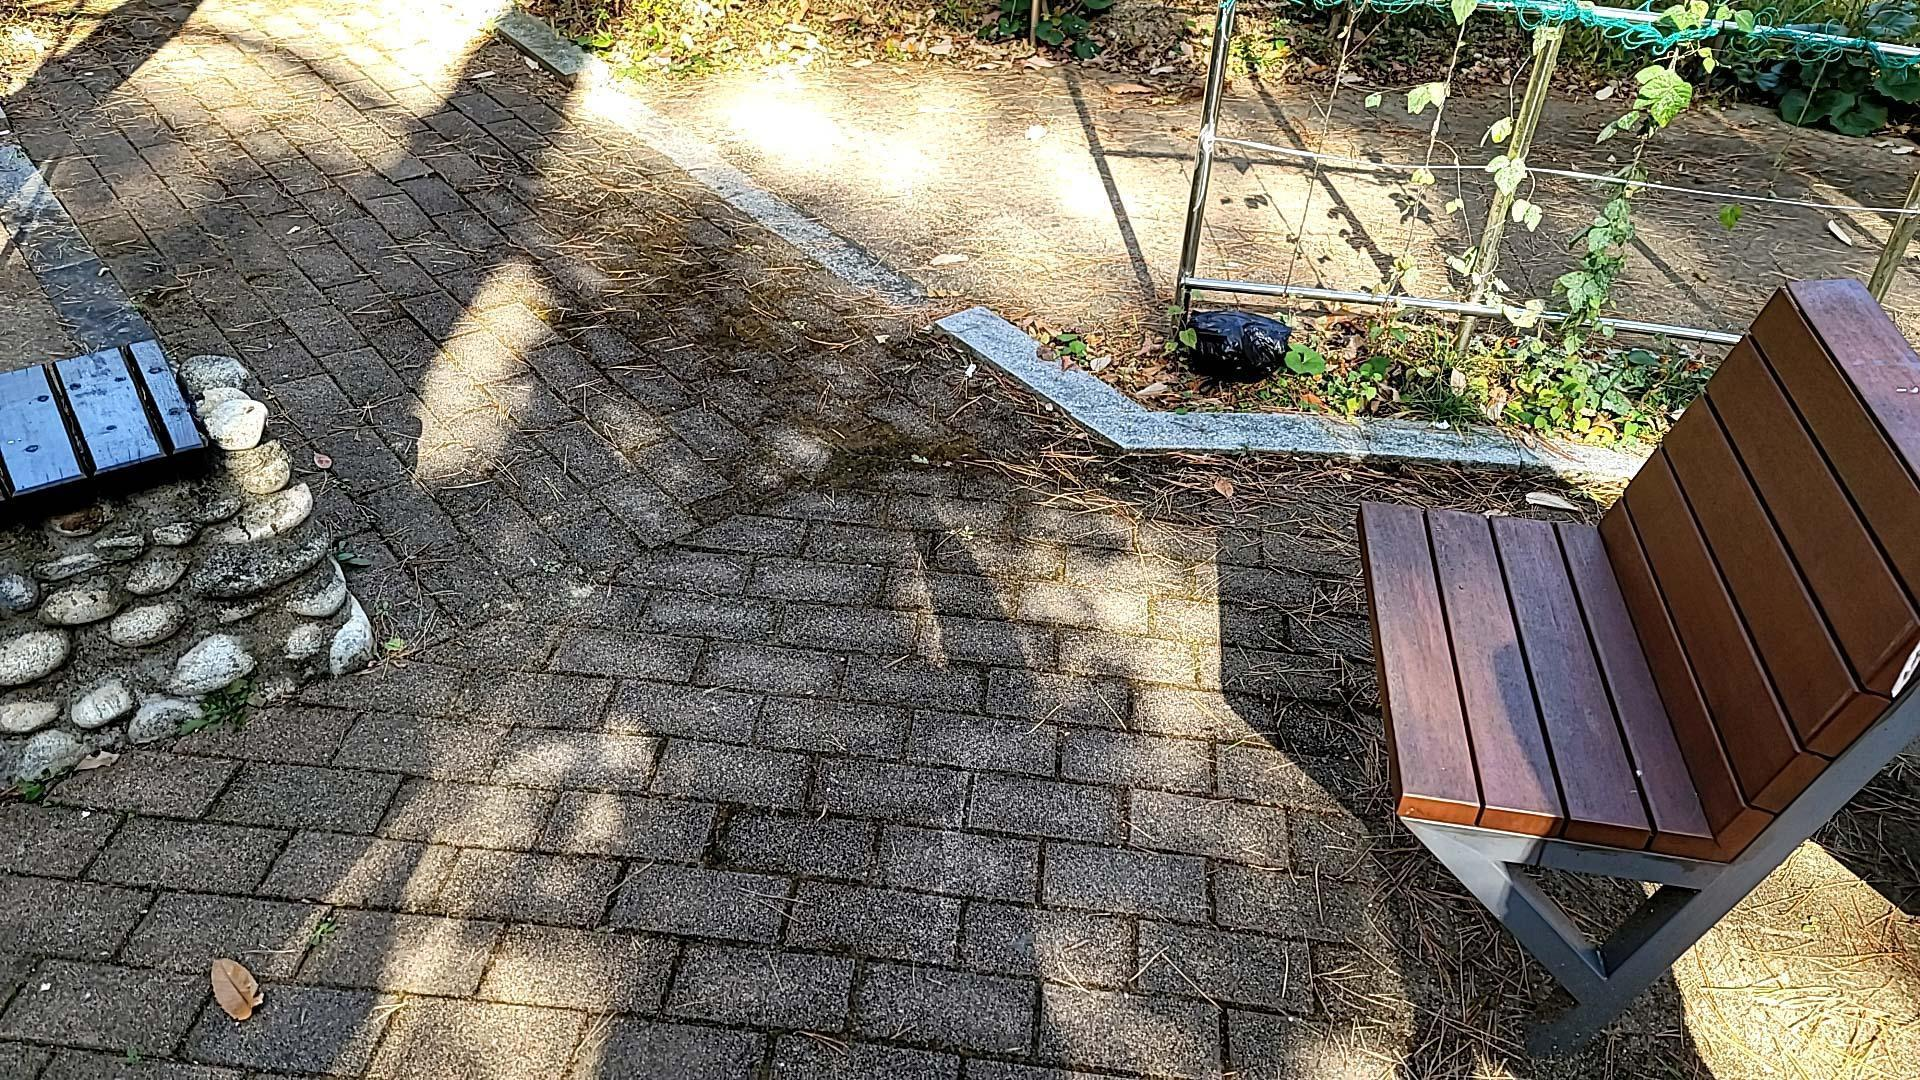black_bag: (1174, 302, 1294, 386)
